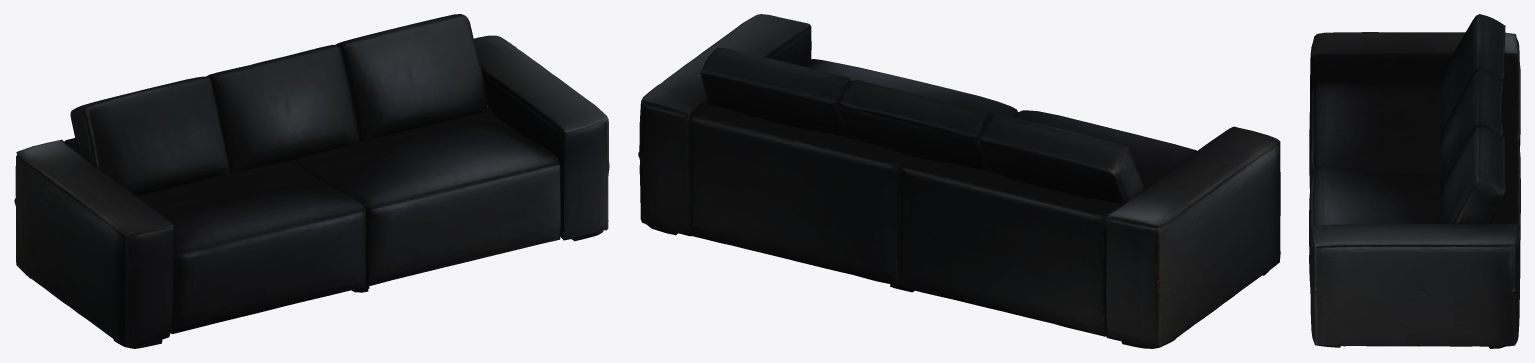
The model's file is ast_a1018a9c3c29.glb.
The picture shows the model from 3 angles, left to right: view 1: azimuth 30°, elevation 25°; view 2: azimuth 150°, elevation 25°; view 3: azimuth 270°, elevation 25°; orthographic projection. The views are drawn at different scales.
Visible parts, largest first — view 1: geometry_0; view 2: geometry_0; view 3: geometry_0.
Part boxes in pixels (<box>): geometry_0: <box>14,14,609,348</box>; geometry_0: <box>638,14,1280,348</box>; geometry_0: <box>1309,14,1520,348</box>.
Bounding box in the file's own units: 1 × 0.3291 × 0.42.
1 material, 1 textured.
